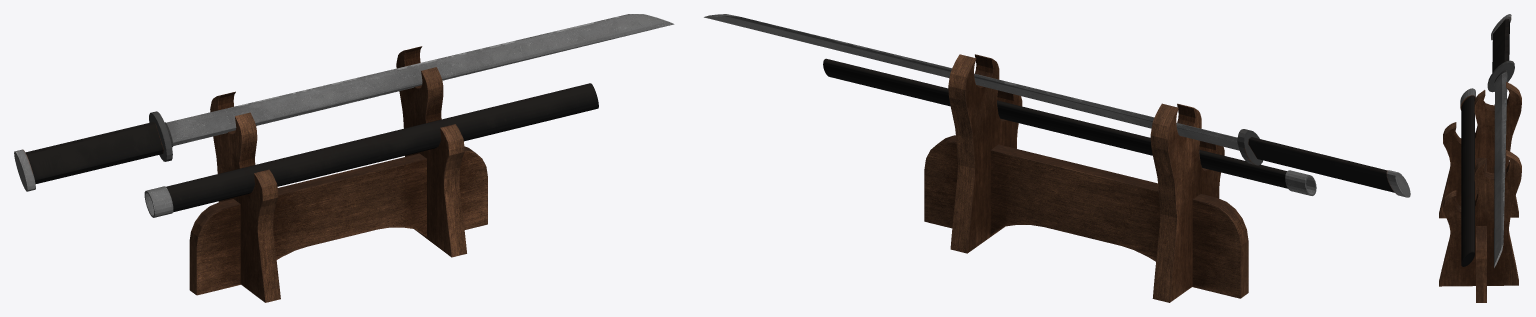
File: sword_holder.fbx
3 views of the same model, side by side, from view 1: azimuth 30°, elevation 25°; view 2: azimuth 150°, elevation 25°; view 3: azimuth 270°, elevation 25° (orthographic). The views are drawn at different scales.
Visible parts, largest first — view 1: Sword_holder; view 2: Sword_holder; view 3: Sword_holder.
Part boxes in pixels (<box>): Sword_holder: <box>14,14,674,302</box>; Sword_holder: <box>704,14,1410,302</box>; Sword_holder: <box>1439,14,1521,302</box>.
Bounding box in the file's own units: 299 × 77.03 × 44.16.
